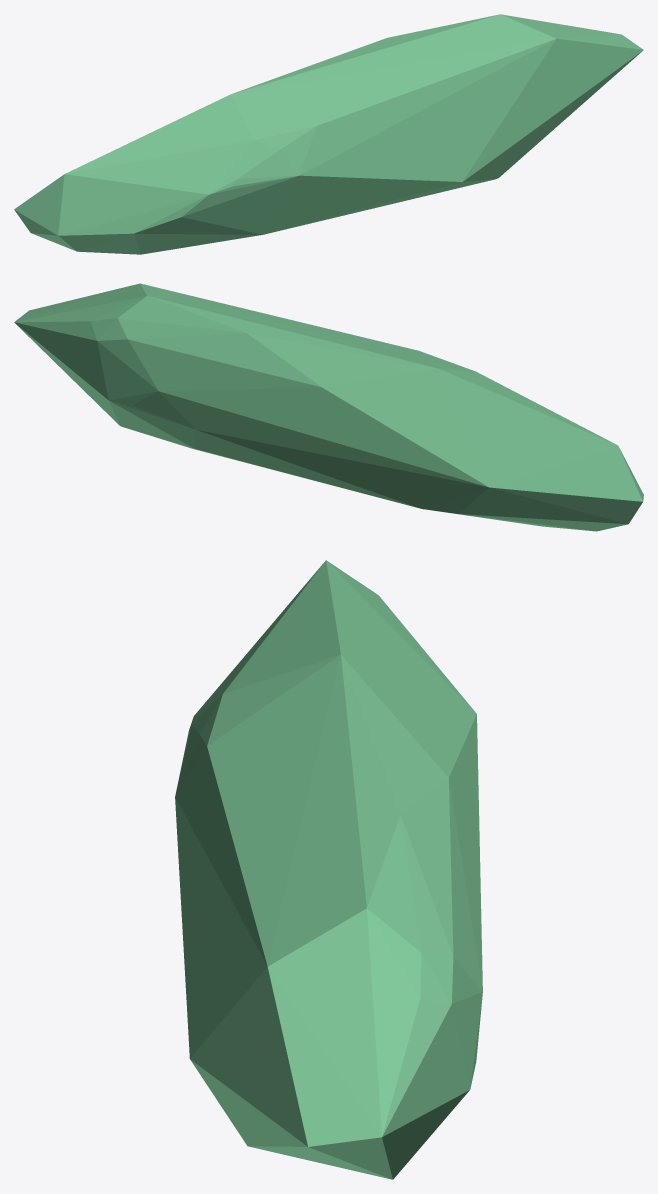
Rendered from food_produce_cornCob_a01.glb.
3 renders of one model, top to bottom at view 1: azimuth 30°, elevation 25°; view 2: azimuth 150°, elevation 25°; view 3: azimuth 270°, elevation 25°, orthographic. The views are drawn at different scales.
Parts seen in each view (by area): view 1: geometry_0; view 2: geometry_0; view 3: geometry_0.
Part boxes in pixels (x1,y1,x2,y2): geometry_0: [14, 14, 643, 254]; geometry_0: [14, 283, 643, 531]; geometry_0: [175, 560, 482, 1179].
Size of the model in its own units: 0.4778 by 0.1101 by 0.104.
